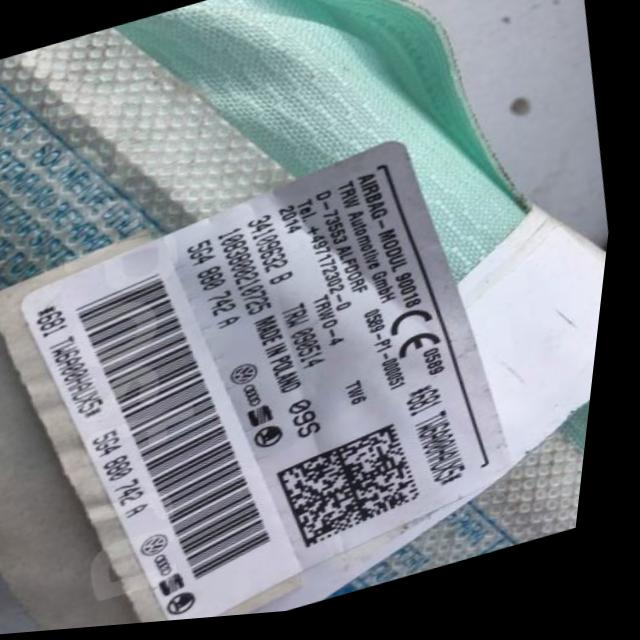datamatrix: (278, 425, 443, 561)
